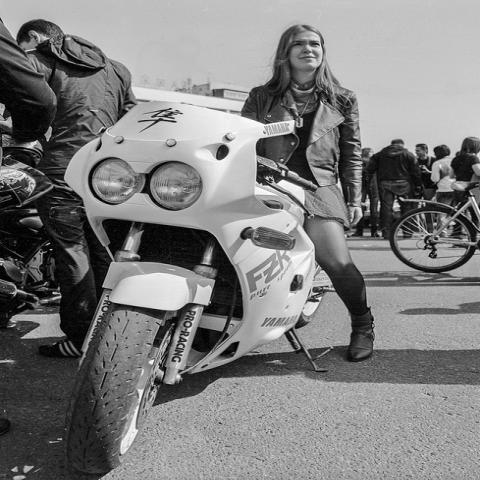motorcycle: (54, 96, 337, 474), (0, 147, 61, 331)
